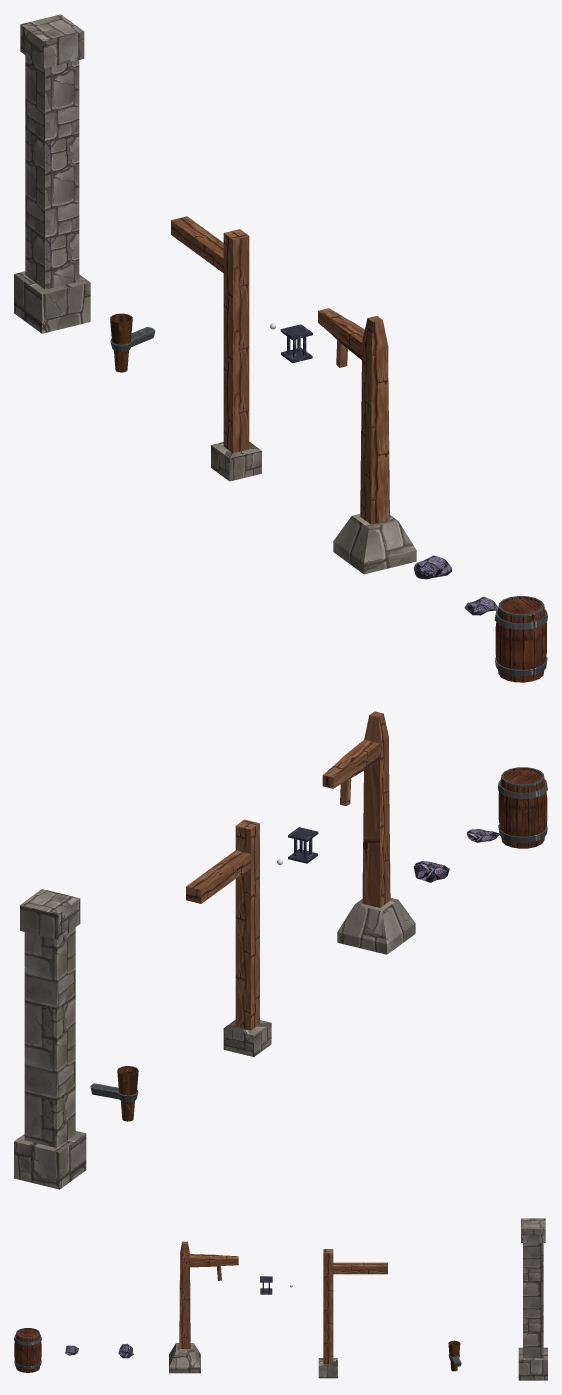
File: обьекты для игры.fbx
3 views of the same model, one above another, from view 1: azimuth 30°, elevation 25°; view 2: azimuth 150°, elevation 25°; view 3: azimuth 270°, elevation 25° (orthographic). The views are drawn at different scales.
Parts seen in each view (by area): view 1: столб, столб фонар, делжалка, бочка, для факела, фонарь; view 2: столб, столб фонар, делжалка, бочка, для факела, фонарь, камень; view 3: столб, столб фонар, делжалка, бочка, для факела.
Boxes of the visible parts, x1,y1,x2,y2 form: столб: (14,14,90,333); столб фонар: (318,308,416,574); делжалка: (171,216,261,481); бочка: (494,596,547,682); для факела: (110,313,155,372); фонарь: (280,324,312,363); столб: (14,889,86,1189); столб фонар: (322,711,415,954); делжалка: (186,819,271,1056); бочка: (498,767,547,848); для факела: (90,1066,138,1121); фонарь: (288,827,318,863); камень: (413,861,449,882); столб: (518,1218,547,1380); столб фонар: (169,1241,238,1373); делжалка: (318,1249,387,1378); бочка: (14,1328,41,1372); для факела: (448,1340,461,1371).
Size of the model in its own units: 401 by 1650 by 5193.
